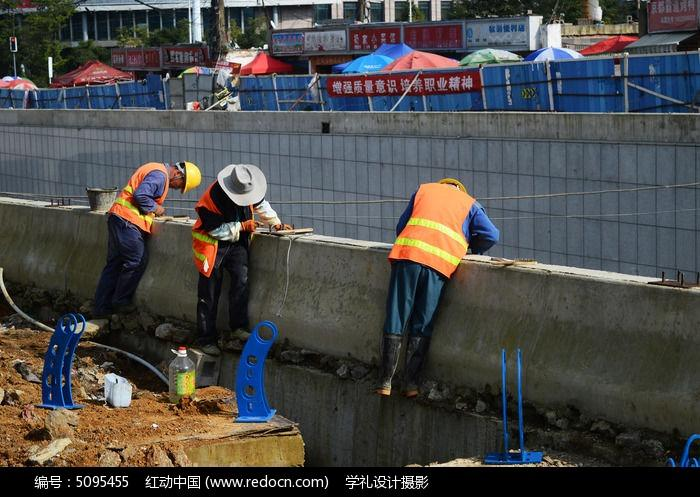helmet: (180, 162, 203, 194)
